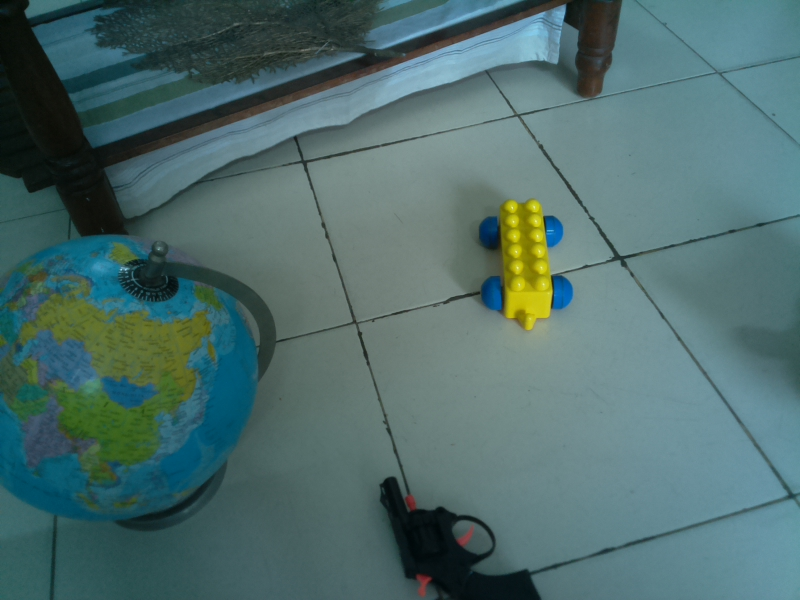Gun: (372, 465, 549, 600)
toy_Car: (466, 191, 584, 336)
